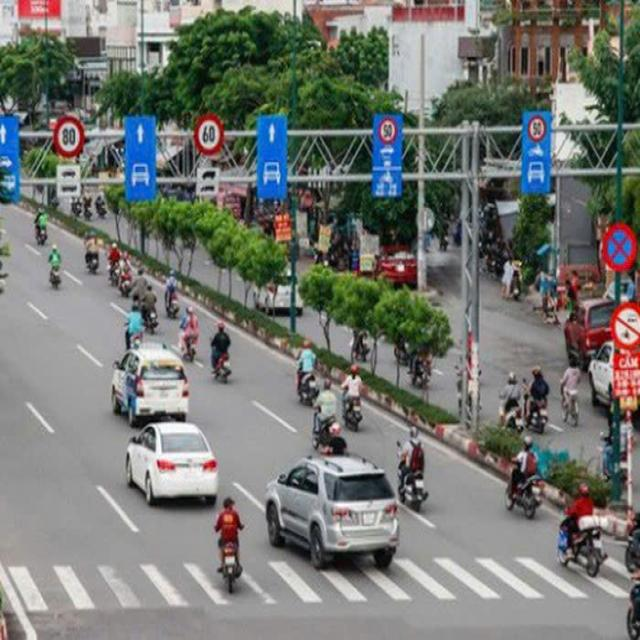Bicycle: (562, 360, 580, 426)
car: (266, 459, 402, 565), (124, 426, 214, 501), (115, 346, 188, 420)
motobyte: (560, 499, 601, 585), (213, 496, 241, 590), (515, 447, 540, 527), (401, 438, 425, 508), (314, 399, 336, 443), (347, 372, 362, 433), (296, 348, 315, 396), (508, 376, 523, 434), (214, 325, 230, 378), (529, 368, 542, 431), (122, 308, 140, 352), (140, 290, 158, 330), (82, 235, 100, 273), (114, 258, 130, 299), (183, 310, 195, 360), (136, 270, 150, 312), (167, 270, 179, 318), (109, 244, 125, 278), (34, 210, 48, 248), (51, 244, 62, 291)
